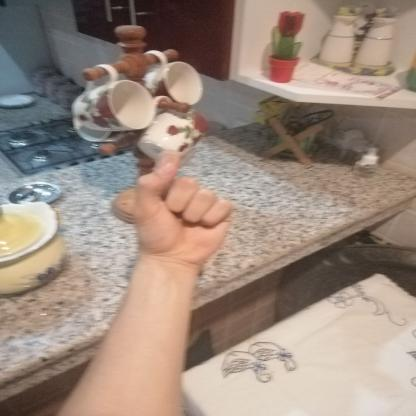FAA: (121, 139, 244, 277)
